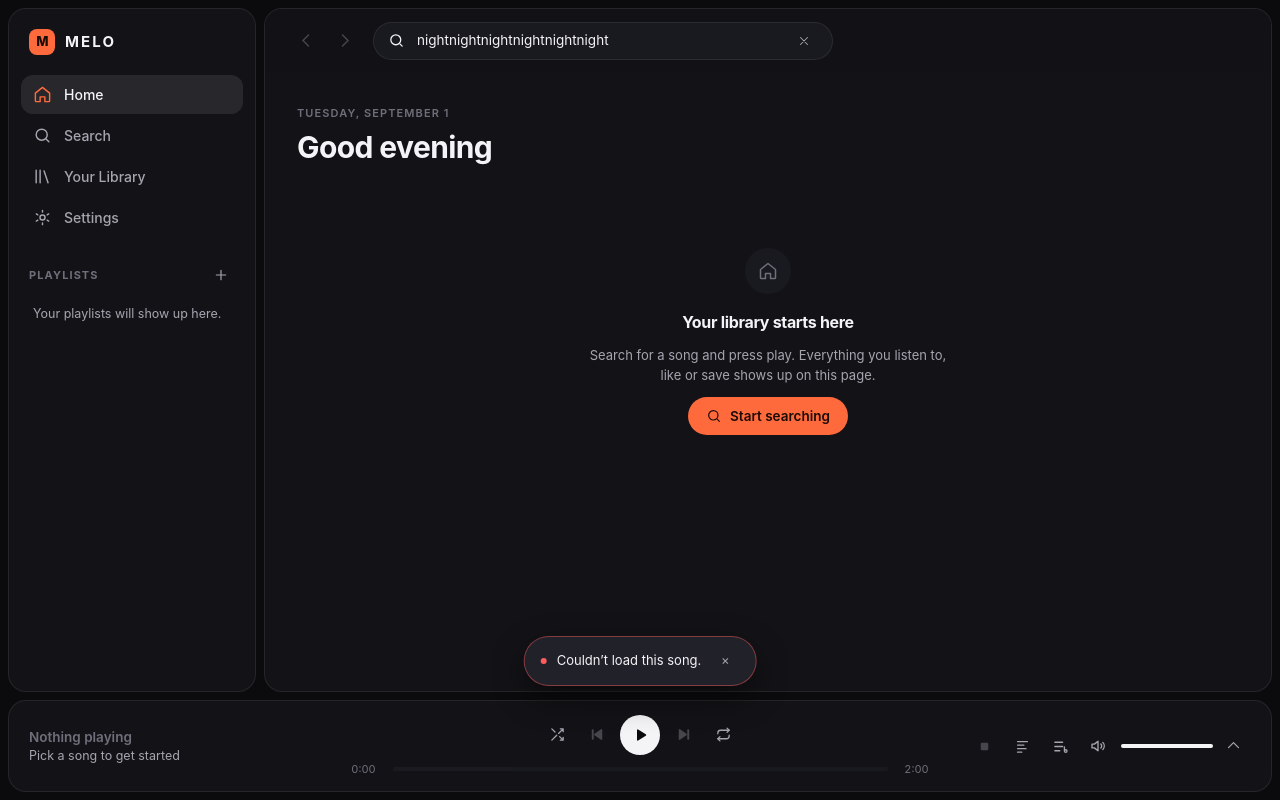
it: MELO application › creates a playlist from the queue and lists it in the sidebar
In the field named "Search": (598, 41) [415,29,780,52], type "night"
Then press Enter
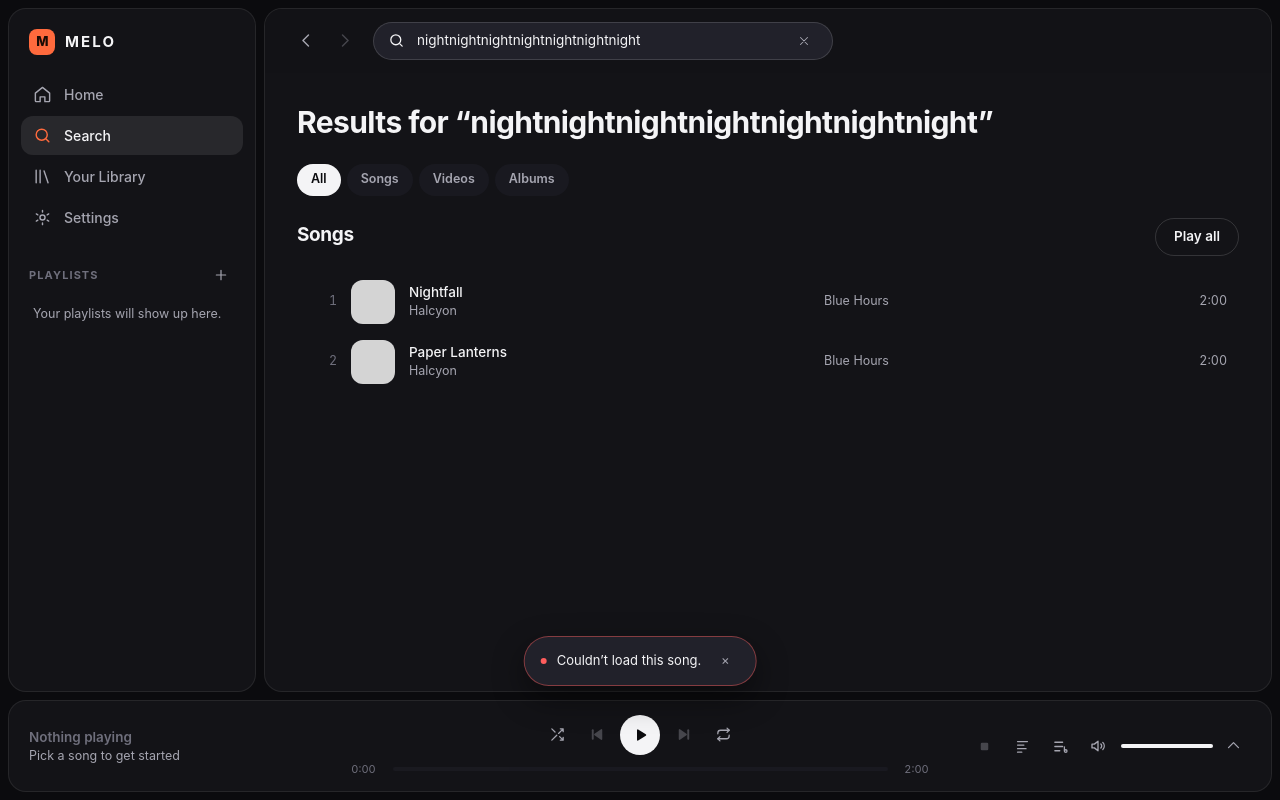
Click the button with aria-label "Play Nightfall": click(373, 302) [297,272,1239,332]
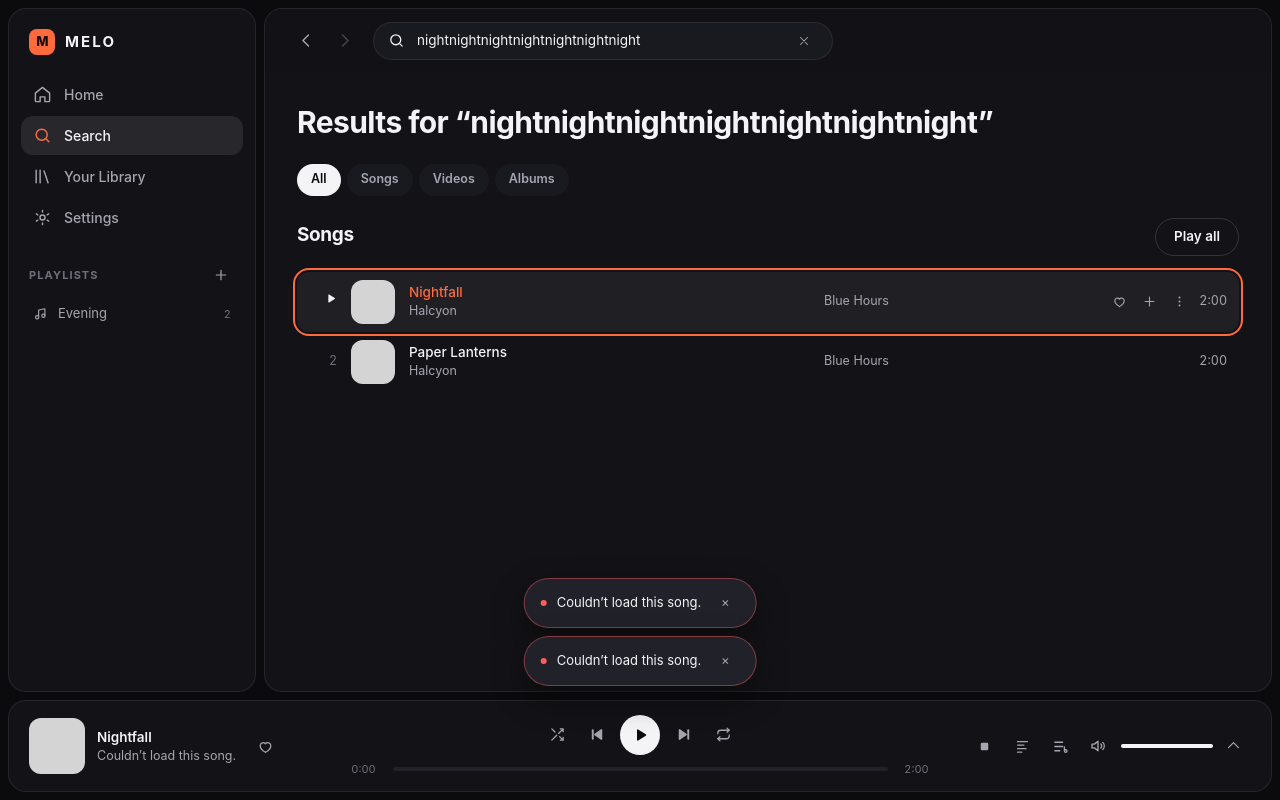
Now the button "Evening 2" is shown, box [21,297,243,330]
